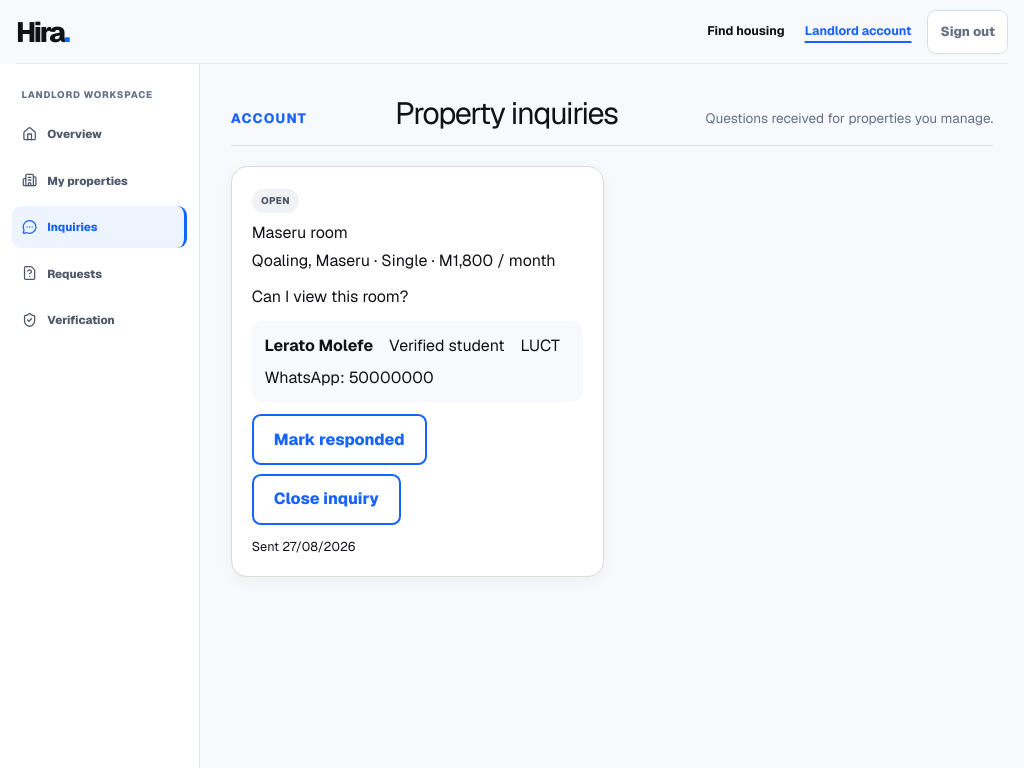
Test: InquiryList › shows landlord controls for a LANDLORD owner and reconciles the authoritative status
expect the text "Lerato Molefe" is shown: met, box [264,334,373,358]
expect the text "Verified student" is shown: met, box [389,334,505,358]
Click the button "Mark responded". click: click(339, 440)
box: [252,414,427,465]
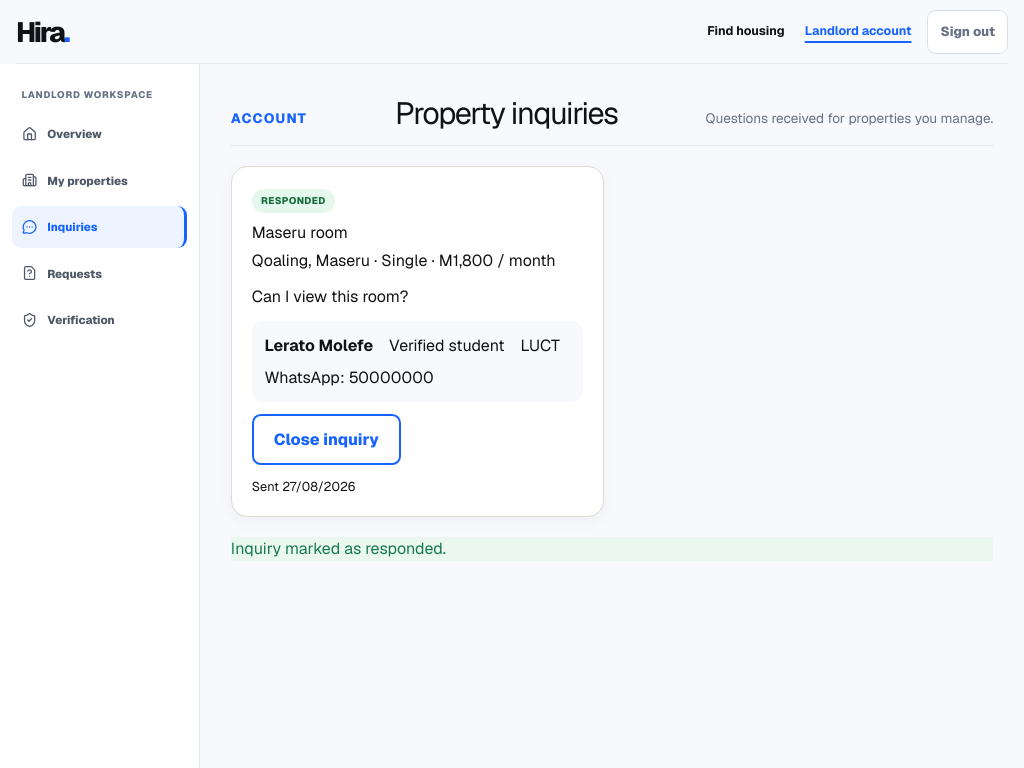
expect the text "Inquiry marked as responded." is shown: met, box [231,537,993,561]
expect the text "RESPONDED" is shown: met, box [252,189,335,213]
expect the button "Mark responded" is gone: met
